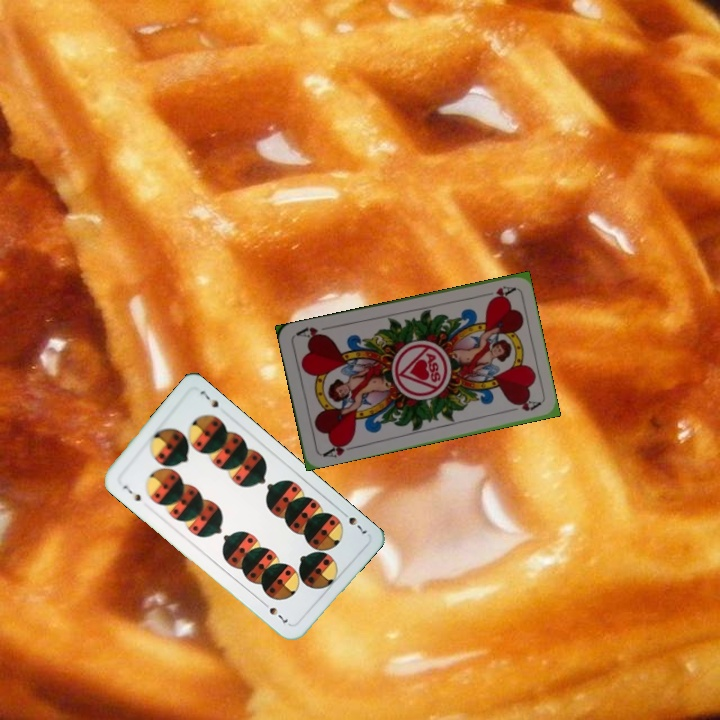HA: (318, 436, 358, 460), (476, 282, 517, 303)
S7: (337, 507, 370, 537), (119, 481, 144, 504)
